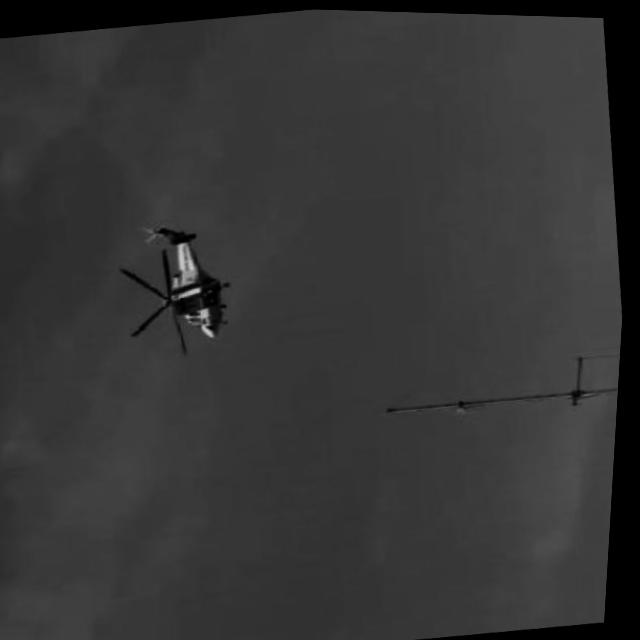helikopter: (117, 215, 245, 362)
